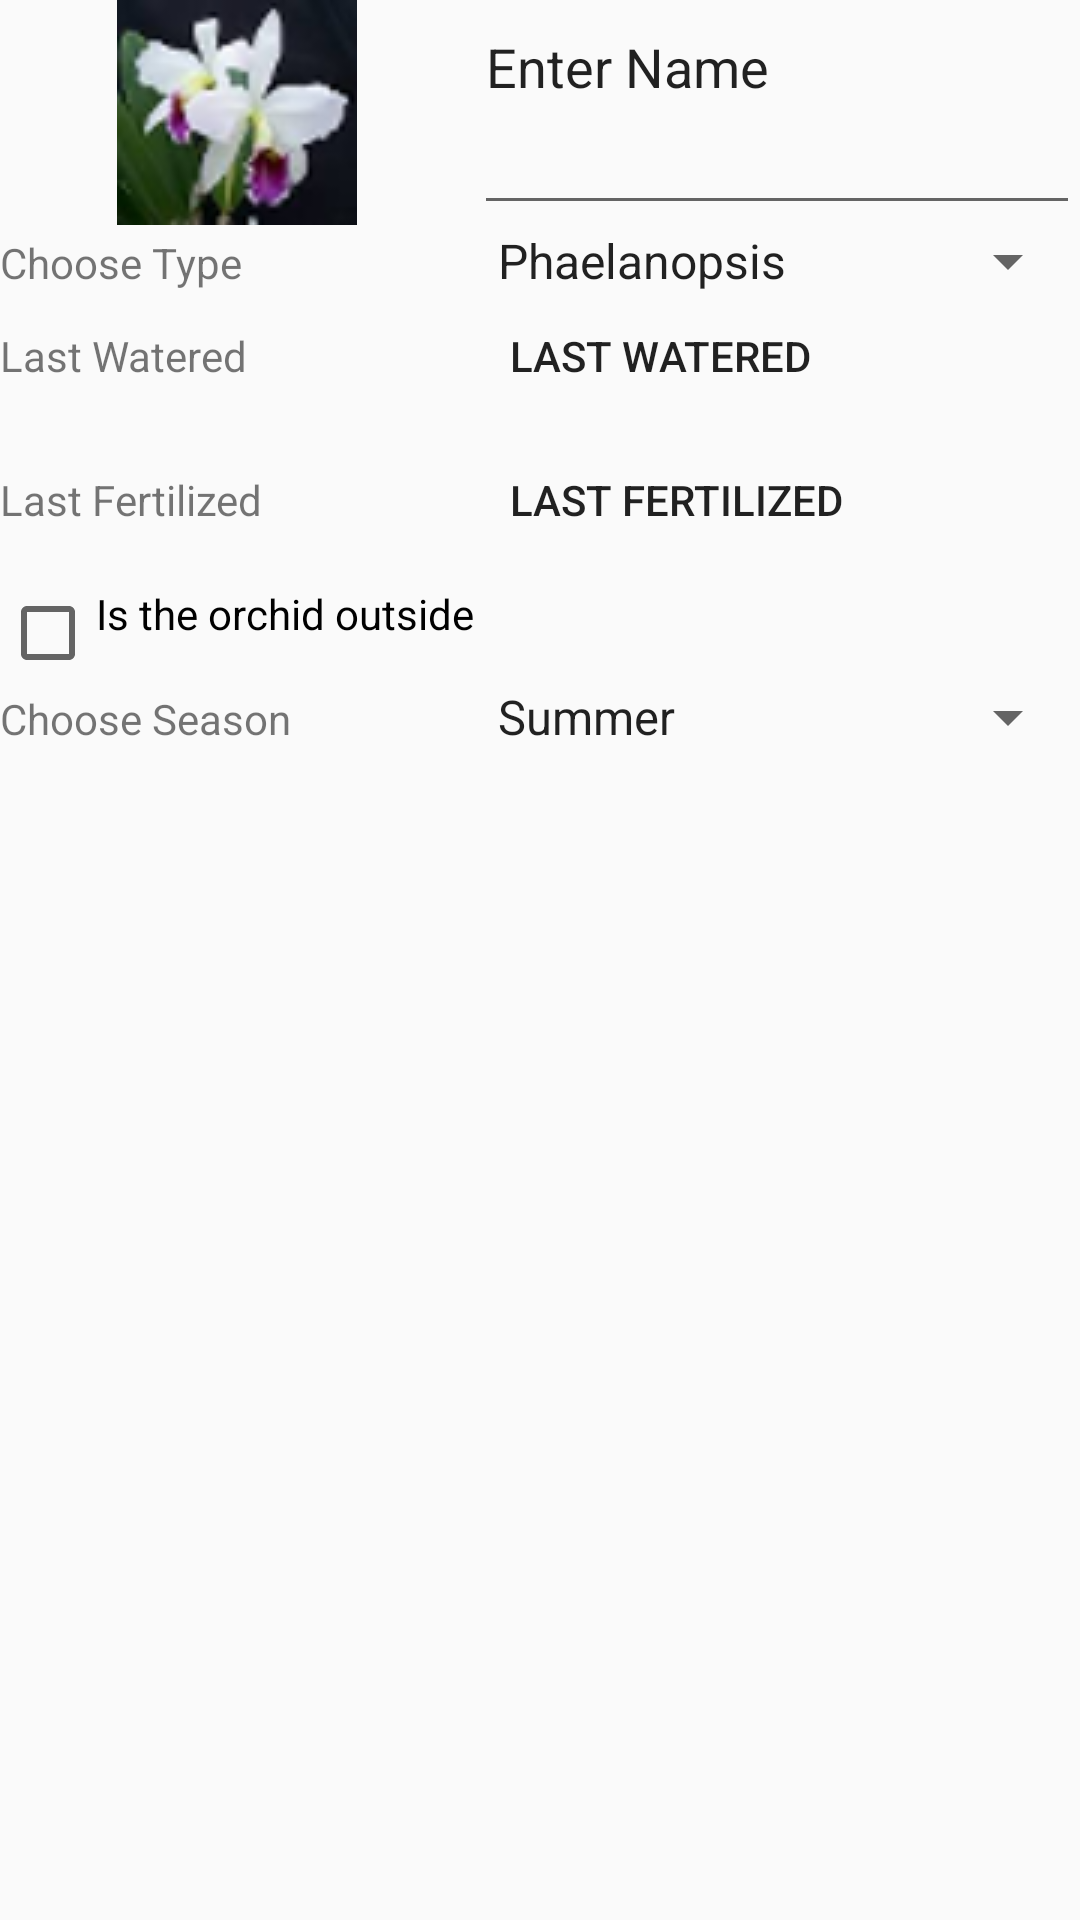

Locate icon controls on the screen. Image size 1080*1920, boxes as {"x1": x1, "y1": y1, "x2": x2, "y2": y2}.
orch: {"x1": 117, "y1": 0, "x2": 357, "y2": 225}
